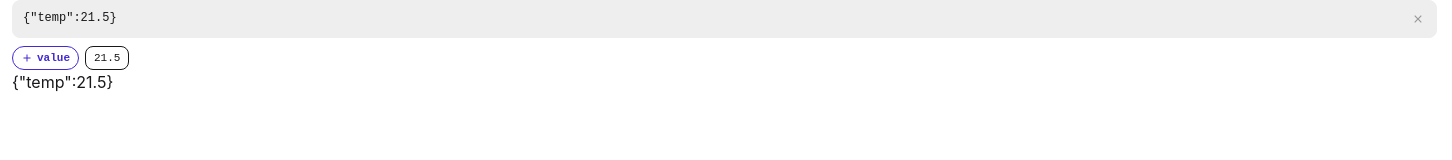
a payload that spells the chip out › restores the replaced literal when removing the chip
// Click the detected literal "21.5"
Click the button "21.5" at (107, 58), box top-left (85, 46), bottom-right (129, 70)
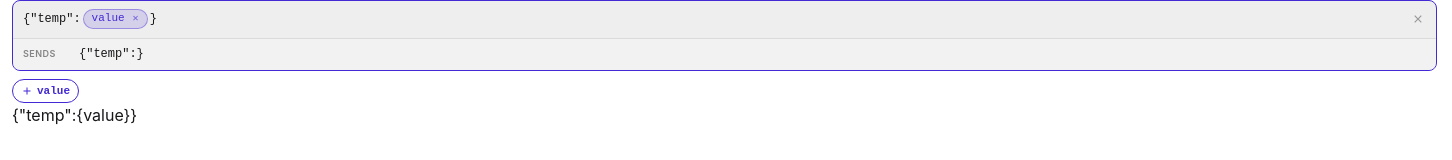
Now the text with test id "template" reads "{\"temp\":{value}}", box top-left (12, 105), bottom-right (137, 125)
Now the button "✕" is shown
Press the mouse on the button "✕" at (136, 19), box top-left (129, 12), bottom-right (143, 26)
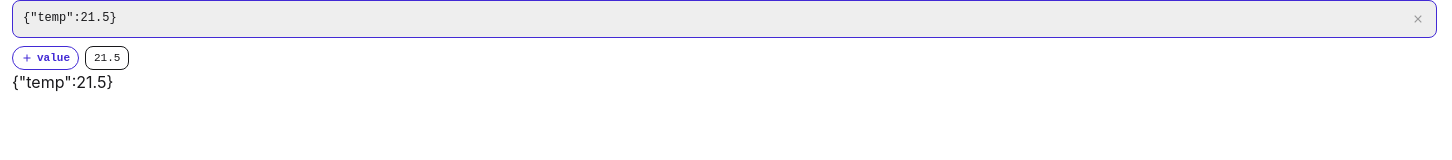
Now the field reads "{\"temp\":21.5}", box top-left (23, 11), bottom-right (117, 25)
Now the button "21.5" is shown, box top-left (85, 46), bottom-right (129, 70)
